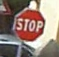stop: (12, 6, 45, 43)
